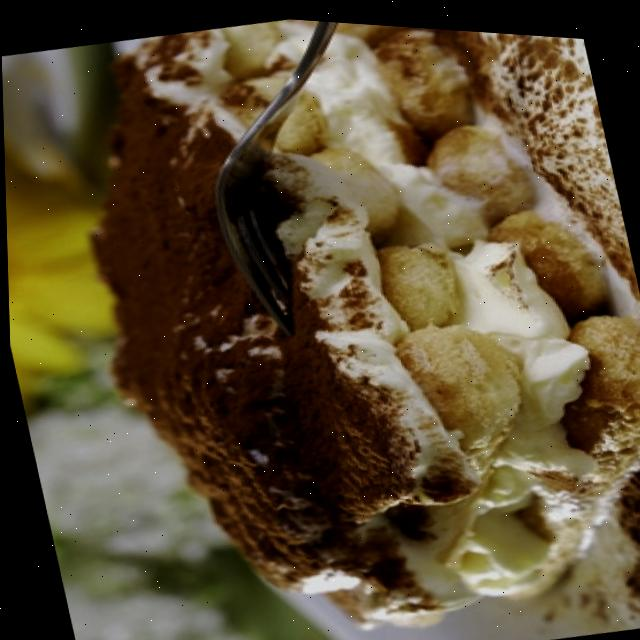蛋糕甜品: (39, 2, 640, 640)
